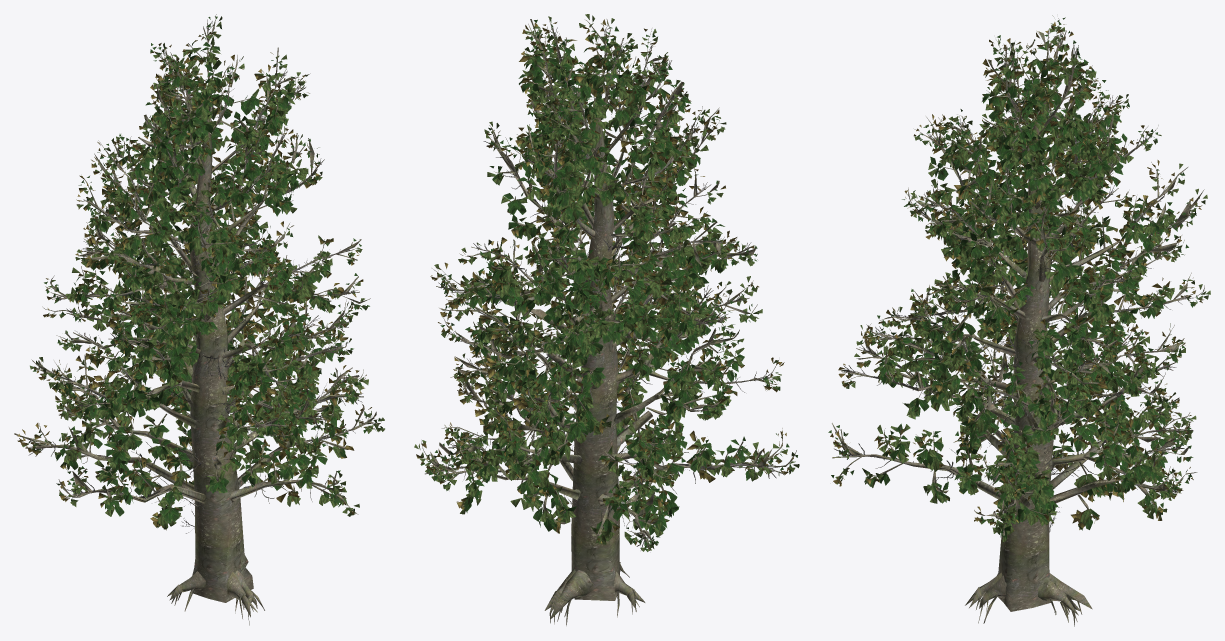
The model's file is court_magnolia.glb.
3 renders of one model, left to right at view 1: azimuth 30°, elevation 25°; view 2: azimuth 150°, elevation 25°; view 3: azimuth 270°, elevation 25°, orthographic. The views are drawn at different scales.
Visible parts, largest first — view 1: Southern Magnolia.001; view 2: Southern Magnolia.001; view 3: Southern Magnolia.001.
Part boxes in pixels (x1,y1,x2,y2): Southern Magnolia.001: (14, 14, 384, 625); Southern Magnolia.001: (414, 14, 799, 625); Southern Magnolia.001: (828, 15, 1210, 626).
Size of what is drawn, in the model's own units: 3.21 by 5.5 by 3.24.
6 materials, 6 textured.
